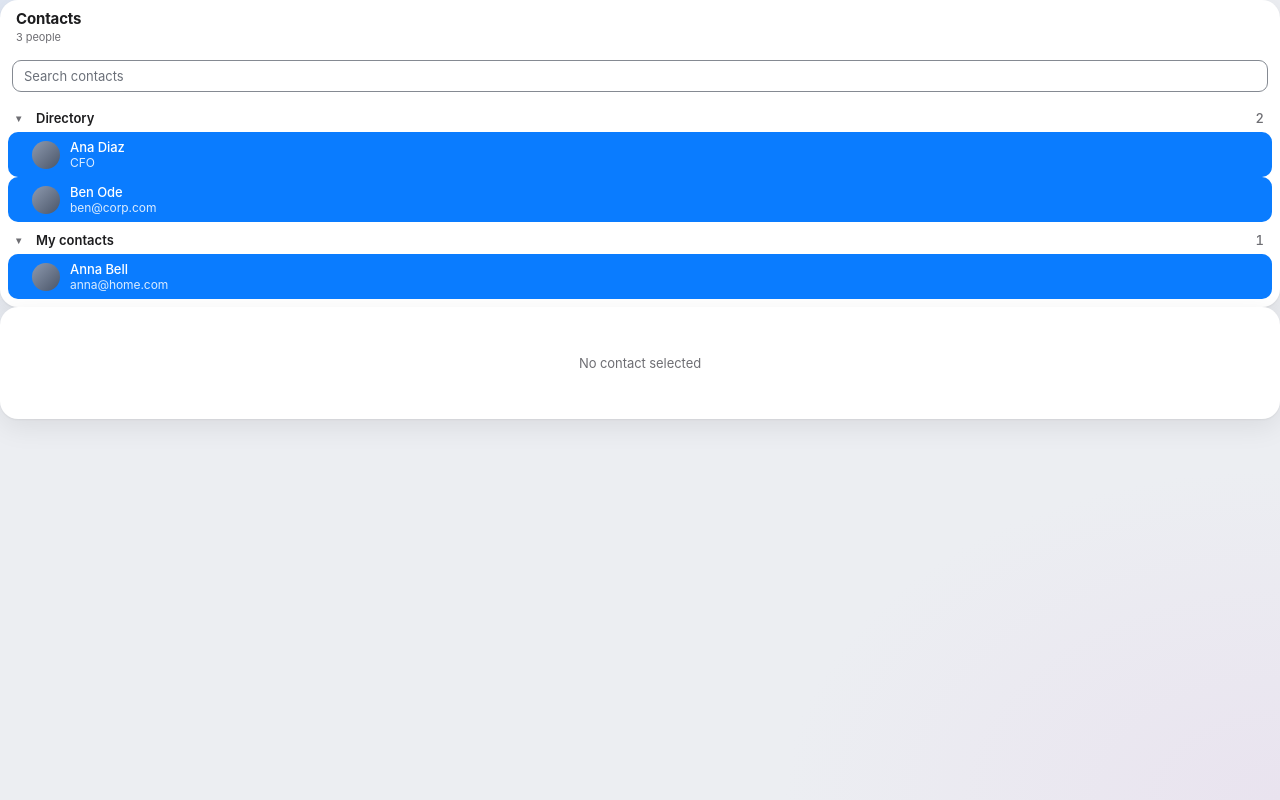
Test: Contacts view › searches both groups with one box
This screenshot has width=1280, height=800.
Check: the text "Ben Ode" is shown, box [70,184,123,200]
Type "an" into the search field labelled "Search contacts" at (640, 76), box [12,60,1268,92]
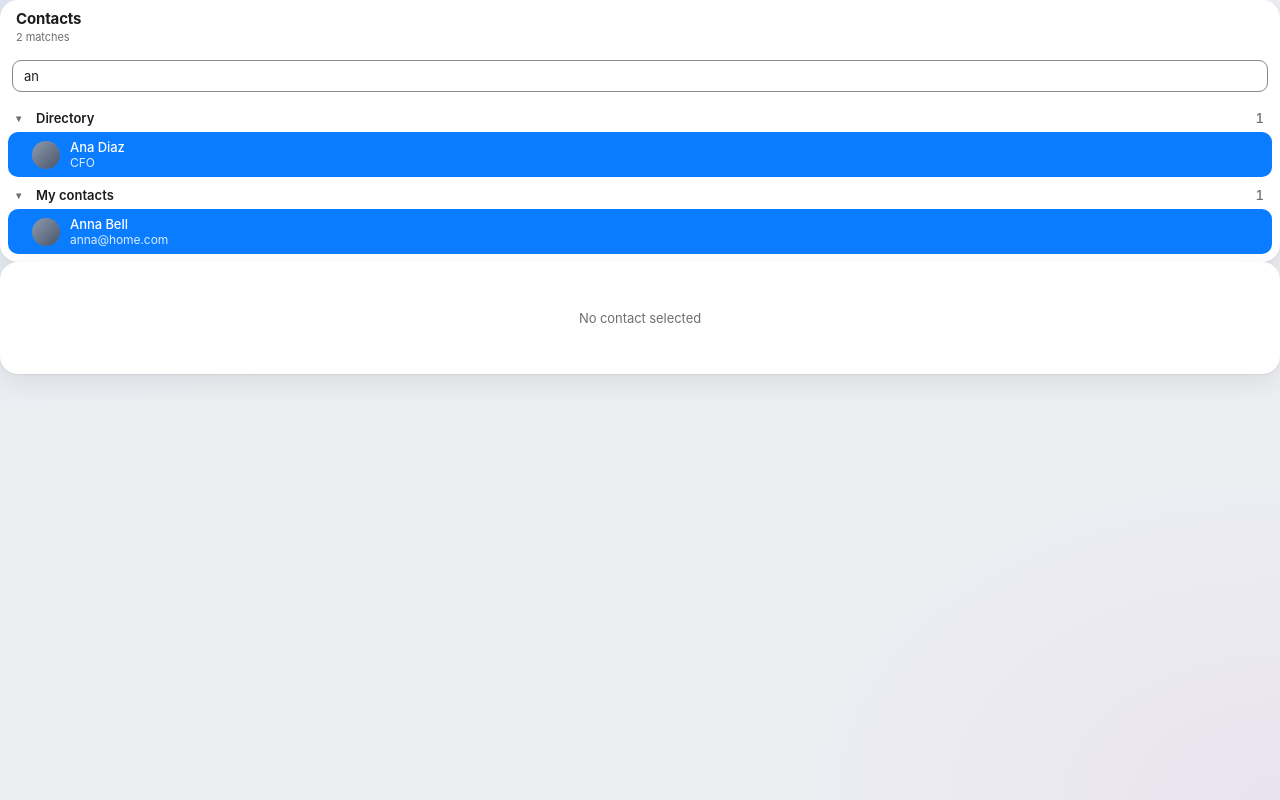
Check: the text "Ana Diaz" is shown, box [70,139,125,155]
Check: the option "Ben Ode" is gone
Replace the text in the search field named "Search contacts" with "zzz" at (640, 76), box [12,60,1268,92]
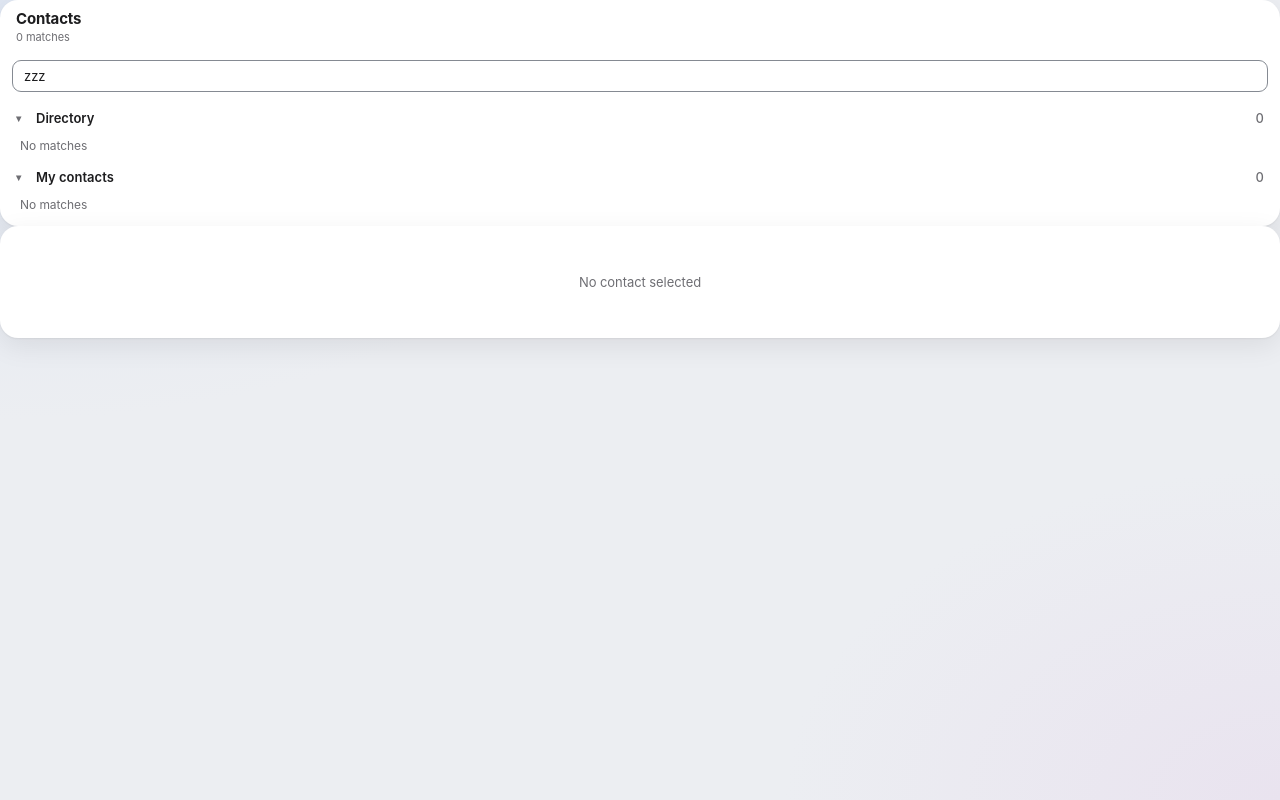
Check: the text "No matches" is shown 2 times, box [20,138,87,153]; [20,197,87,212]
